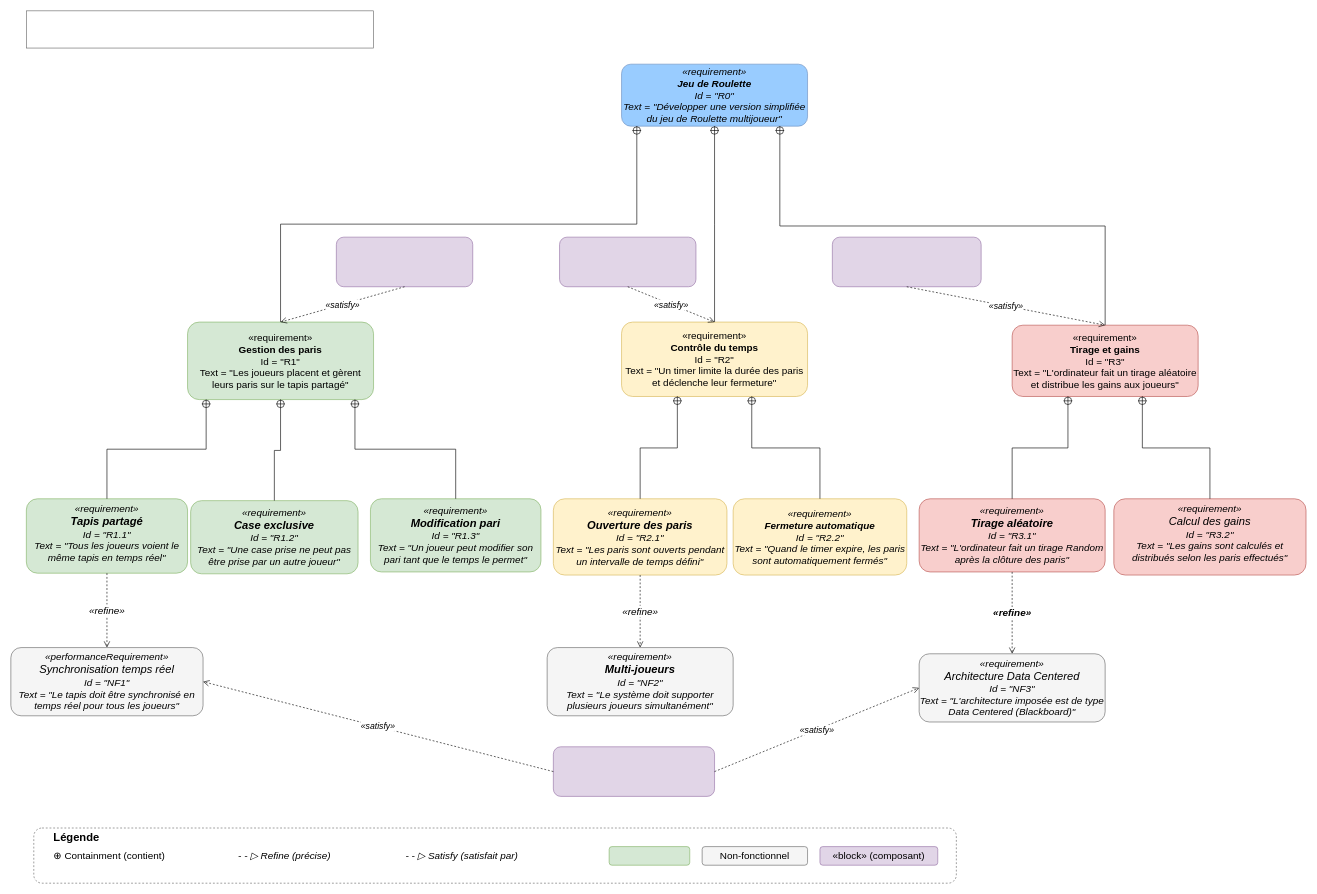
Image size: 1317x894. Some labels were removed from this diagram. Each missing label, with the centre of its shape:
Fonctionnel: the point at 649,855
req [Package] Roulette [RouletteRequirements]: the point at 200,29
«block» Banque (ordinateur) Tirage + calcul des gains: the point at 906,262
«block» Blackboard (Tapis central) Dépôt central de données: the point at 634,771
«block» Joueur Pose et modifie ses paris: the point at 404,262
«block» Timer Gère le temps de paris: the point at 627,262
